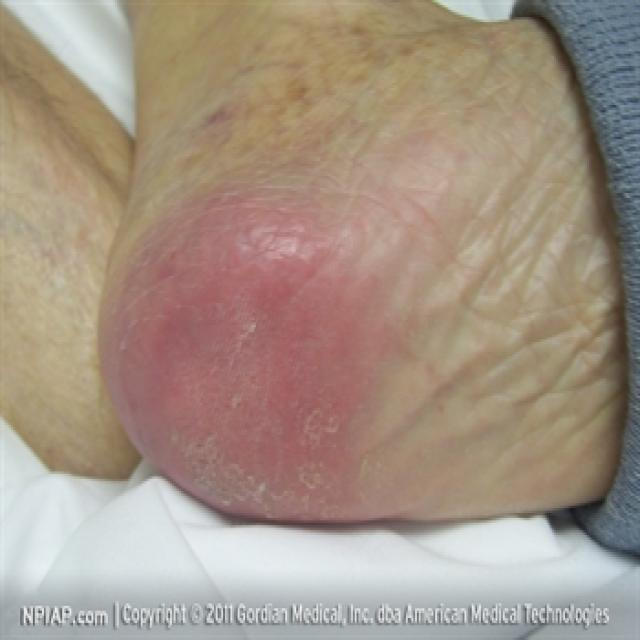stage-1: (120, 201, 355, 522)
